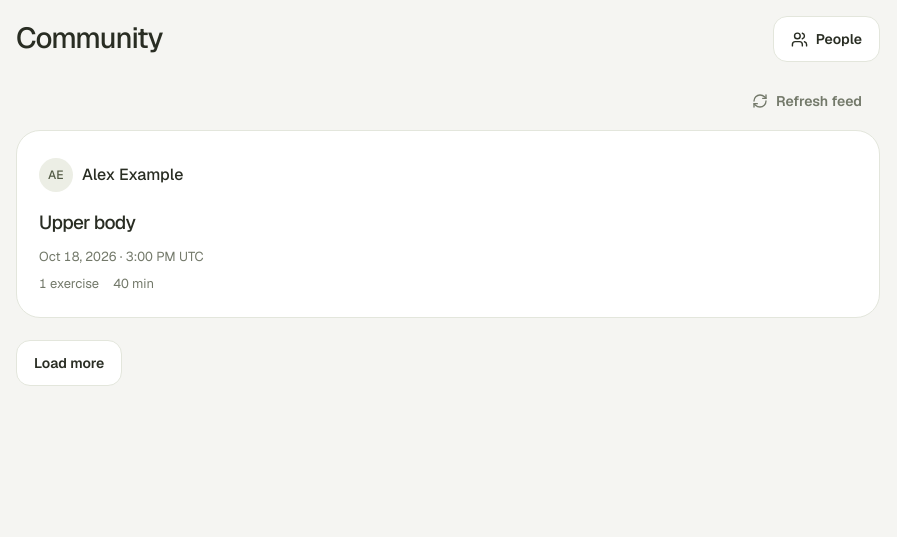
it: CommunityScreen › keeps a pending Load more request alive after the initial feed finishes
Expected: the heading "Upper body" is shown, [39,210,135,235]
Expected: the element named "View Upper body workout by Alex Example" shows "1 exercise", [16,130,880,318]
Click the button "Load more" at (69, 363), box [16,340,122,386]
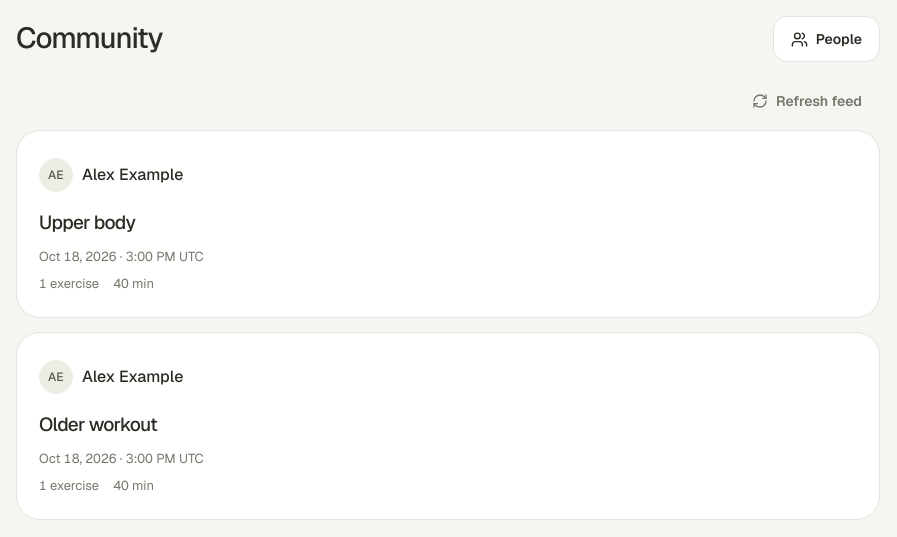
Expected: the button "Refresh feed" is enabled, [734,78,880,124]
Result: the heading "Older workout" is shown at [39,412,157,437]
